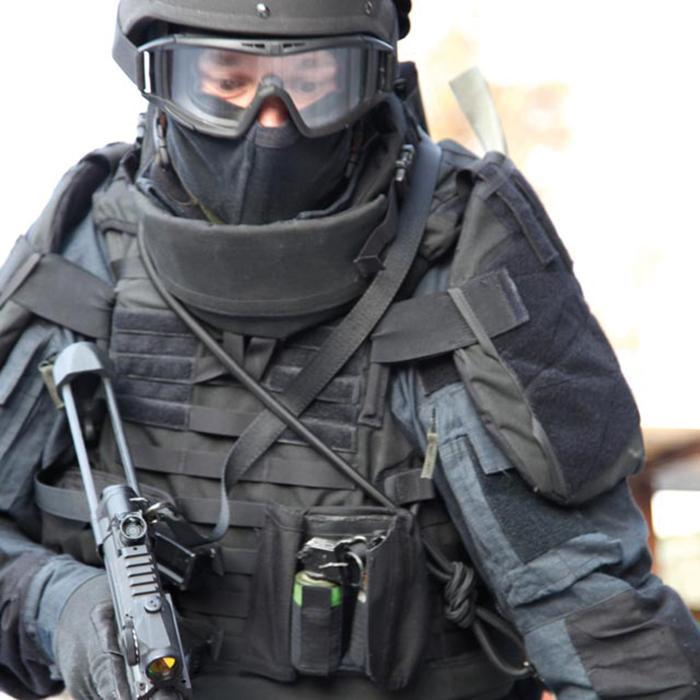Grenade: (282, 530, 367, 679)
Gun: (54, 343, 191, 700)
